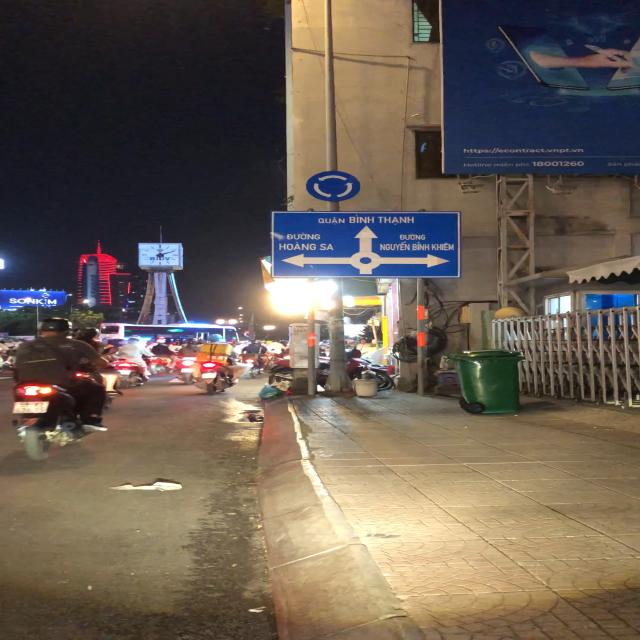Bien bao noi giao nhau chay theo vong xuyen: (303, 170, 363, 203)
